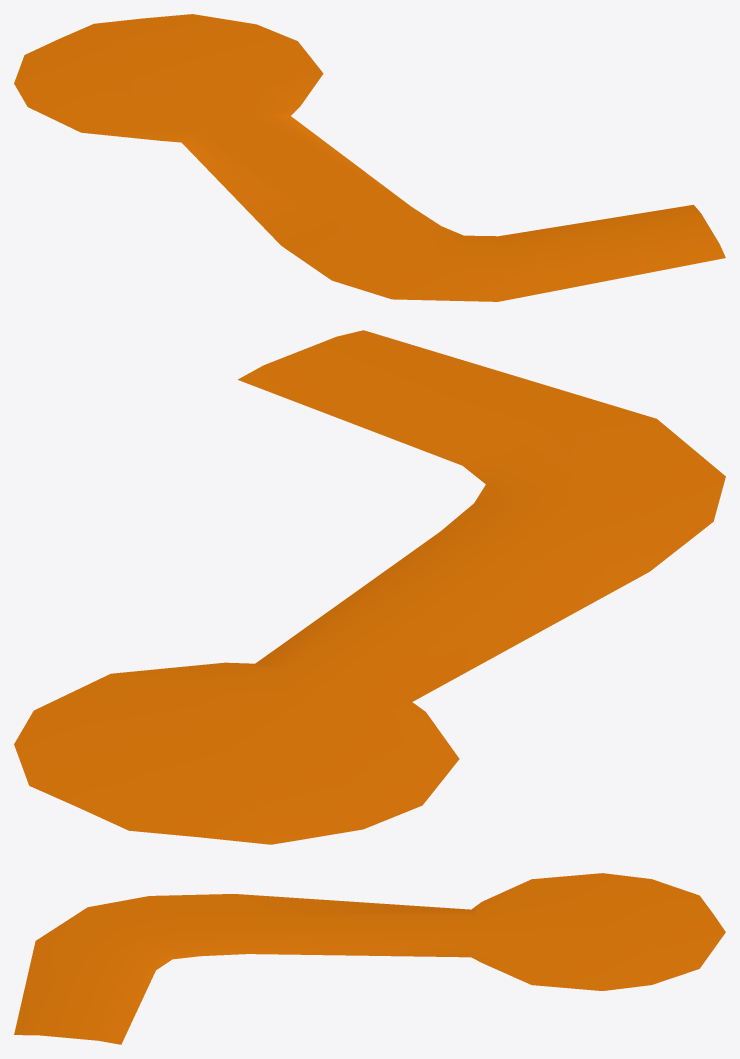
File: luolatesti3333.fbx
3 renders of one model, top to bottom at view 1: azimuth 30°, elevation 25°; view 2: azimuth 150°, elevation 25°; view 3: azimuth 270°, elevation 25°, orthographic. The views are drawn at different scales.
Visible parts, largest first — view 1: luola.001; view 2: luola.001; view 3: luola.001.
Part boxes in pixels (x1,y1,x2,y2): luola.001: (14,14,725,301); luola.001: (14,330,725,844); luola.001: (14,873,725,1044).
Size of the model in its own units: 11.9 by 0.1579 by 20.61.
